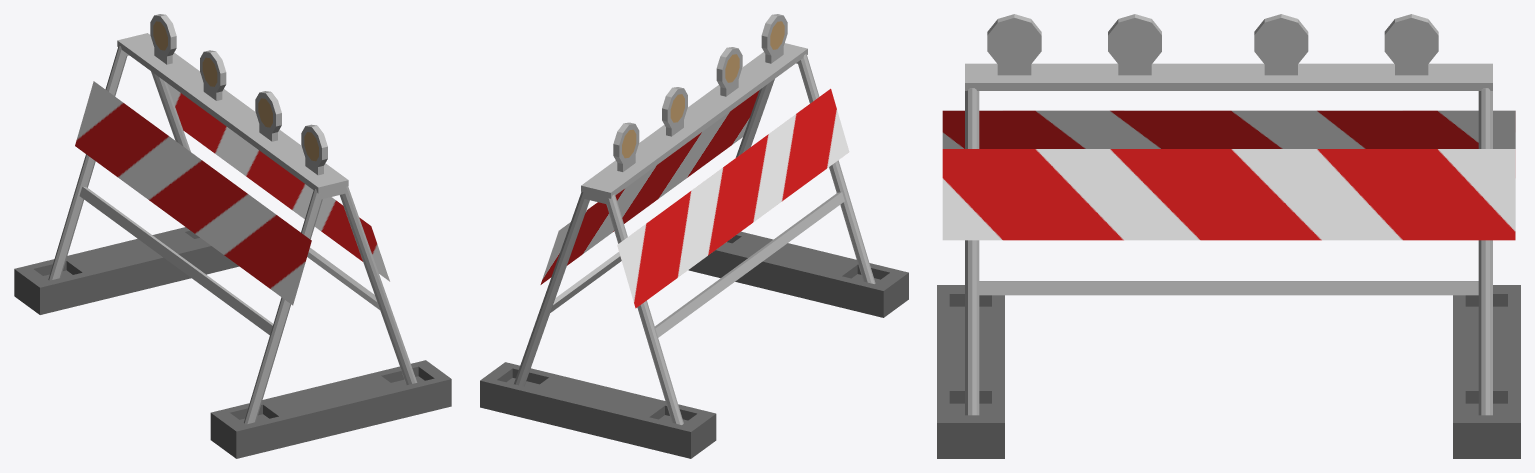
The model's file is absperrung_02.fbx.
3 renders of one model, left to right at view 1: azimuth 30°, elevation 25°; view 2: azimuth 150°, elevation 25°; view 3: azimuth 270°, elevation 25°, orthographic. The views are drawn at different scales.
Parts seen in each view (by area): view 1: gestell, sign1, feet1, feet2, sign2, Lamp_1, Lamp_4, Lamp_2, Lamp_3; view 2: gestell, sign1, feet2, feet1, sign2, Lamp_3, Lamp_4, Lamp_2, Lamp_1; view 3: sign2, gestell, sign1, feet1, feet2, Lamp_3, Lamp_1, Lamp_4, Lamp_2.
Boxes of the visible parts, x1,y1,x2,y2 form: gestell: [48, 33, 417, 424]; sign1: [75, 81, 311, 305]; feet1: [210, 360, 451, 458]; feet2: [14, 227, 239, 314]; sign2: [167, 83, 389, 281]; Lamp_1: [200, 50, 226, 100]; Lamp_4: [150, 14, 176, 64]; Lamp_2: [255, 91, 281, 141]; Lamp_3: [301, 124, 327, 175]; gestell: [514, 43, 875, 424]; sign1: [617, 88, 849, 308]; feet2: [480, 362, 716, 458]; feet1: [688, 231, 908, 317]; sign2: [540, 90, 759, 284]; Lamp_3: [761, 14, 787, 63]; Lamp_4: [613, 122, 639, 171]; Lamp_2: [716, 47, 742, 96]; Lamp_1: [662, 87, 687, 136]; sign2: [942, 149, 1515, 240]; gestell: [965, 63, 1492, 415]; sign1: [942, 110, 1515, 148]; feet1: [937, 285, 1004, 458]; feet2: [1453, 285, 1520, 458]; Lamp_3: [987, 14, 1041, 75]; Lamp_1: [1254, 14, 1308, 75]; Lamp_4: [1384, 14, 1438, 75]; Lamp_2: [1108, 14, 1161, 75].
Size of the model in its own units: 3.55 by 4.48 by 6.34.
Materials: 4 (1 with a texture image).
